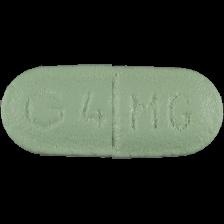59762-4960: (0, 0, 224, 224)
